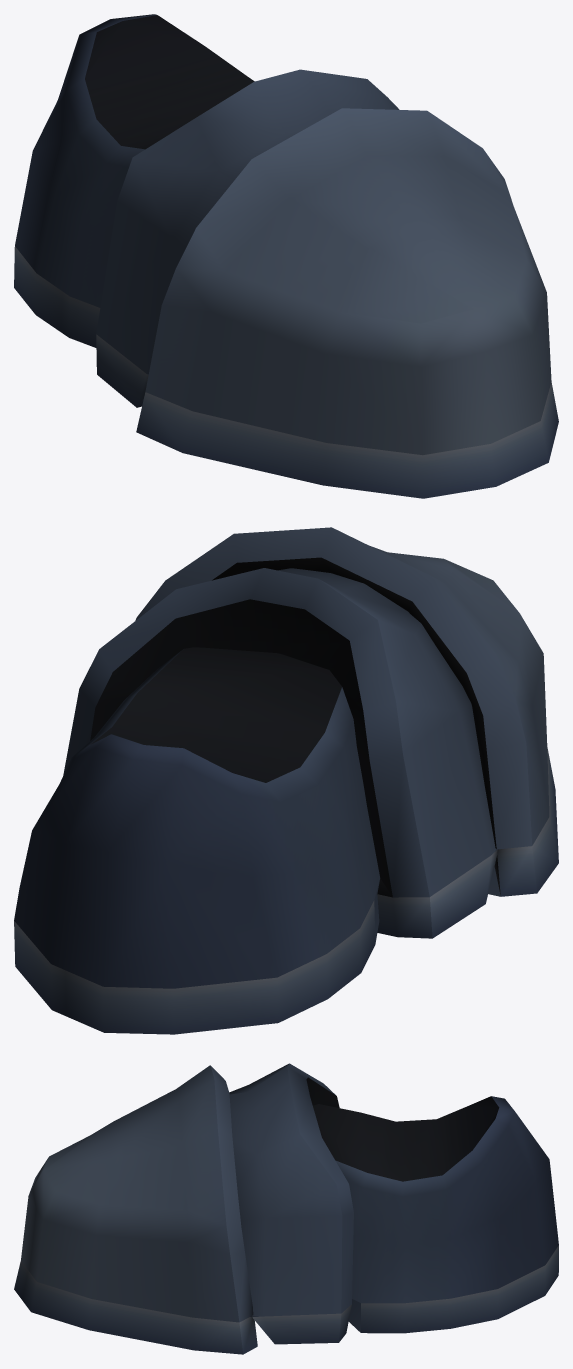
Rendered from Shoes_Armored_Shoes_L.gltf.
The picture shows the model from 3 angles, top to bottom: view 1: azimuth 30°, elevation 25°; view 2: azimuth 150°, elevation 25°; view 3: azimuth 270°, elevation 25°; orthographic projection. The views are drawn at different scales.
Parts seen in each view (by area): view 1: Shoes_Armored_Shoes_L; view 2: Shoes_Armored_Shoes_L; view 3: Shoes_Armored_Shoes_L.
Part boxes in pixels (x1=…): Shoes_Armored_Shoes_L: x1=14, y1=14, x2=558, y2=498; Shoes_Armored_Shoes_L: x1=14, y1=527, x2=558, y2=1034; Shoes_Armored_Shoes_L: x1=14, y1=1063, x2=558, y2=1354.
Bounding box in the file's own units: 0.3402 × 0.234 × 0.56.
1 material, 1 textured.
